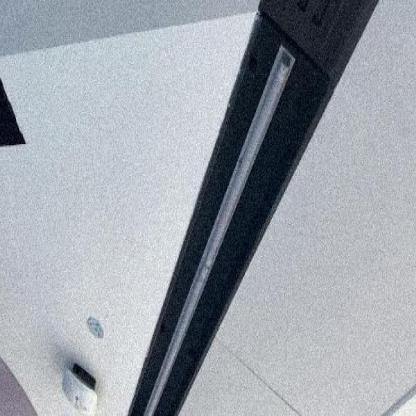light_off: (126, 32, 307, 415)
